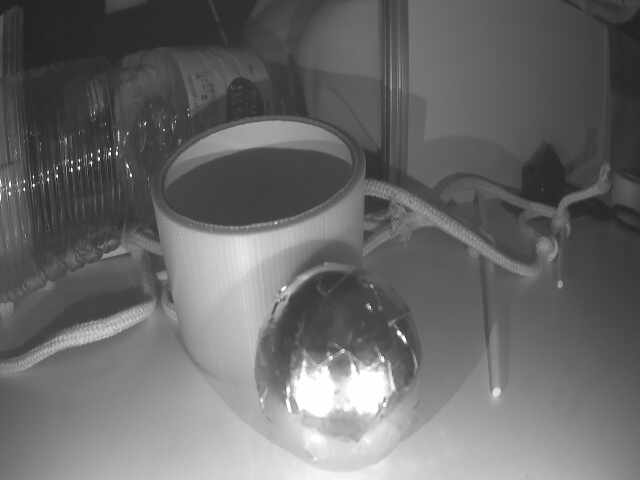Live: (257, 252, 426, 465)
